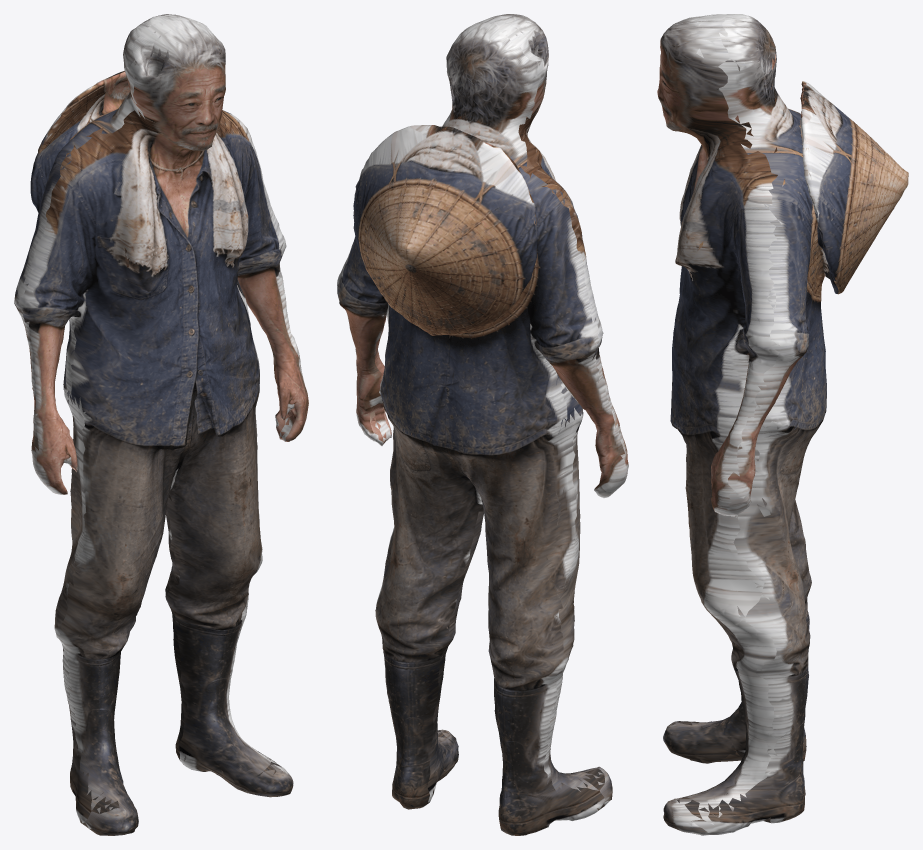
File: oldman.glb
The picture shows the model from 3 angles, left to right: view 1: azimuth 30°, elevation 25°; view 2: azimuth 150°, elevation 25°; view 3: azimuth 270°, elevation 25°; orthographic projection.
Visible parts, largest first — view 1: geometry_0; view 2: geometry_0; view 3: geometry_0.
Boxes of the visible parts, box(x1,y1,x2,y2) form: geometry_0: box(14, 14, 308, 835); geometry_0: box(337, 14, 628, 835); geometry_0: box(657, 14, 908, 835).
Bounding box in the file's own units: 0.7111 × 1.98 × 0.5821.
1 material, 1 textured.
